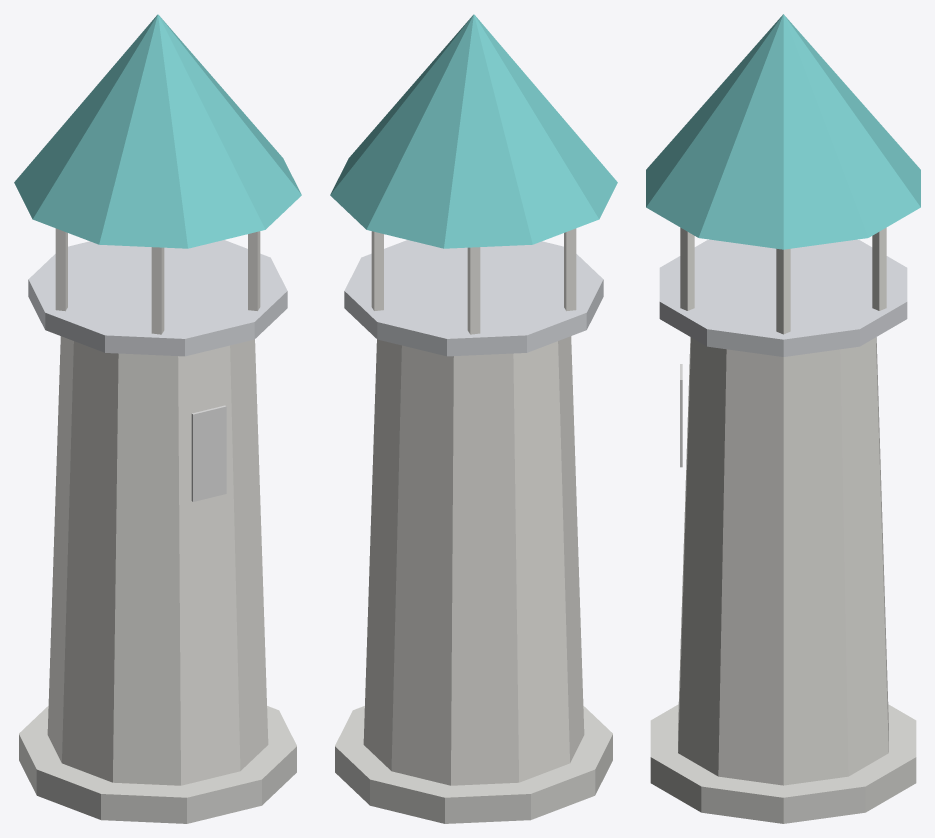
3 renders of one model, left to right at view 1: azimuth 30°, elevation 25°; view 2: azimuth 150°, elevation 25°; view 3: azimuth 270°, elevation 25°, orthographic.
Visible parts, largest first — view 1: body; view 2: body; view 3: body.
Boxes of the visible parts, left/top/right/bottom form: body: left=14, top=14, right=301, bottom=823; body: left=330, top=14, right=617, bottom=823; body: left=646, top=14, right=920, bottom=823.
Bounding box in the file's own units: 6 × 17.2 × 5.71.
